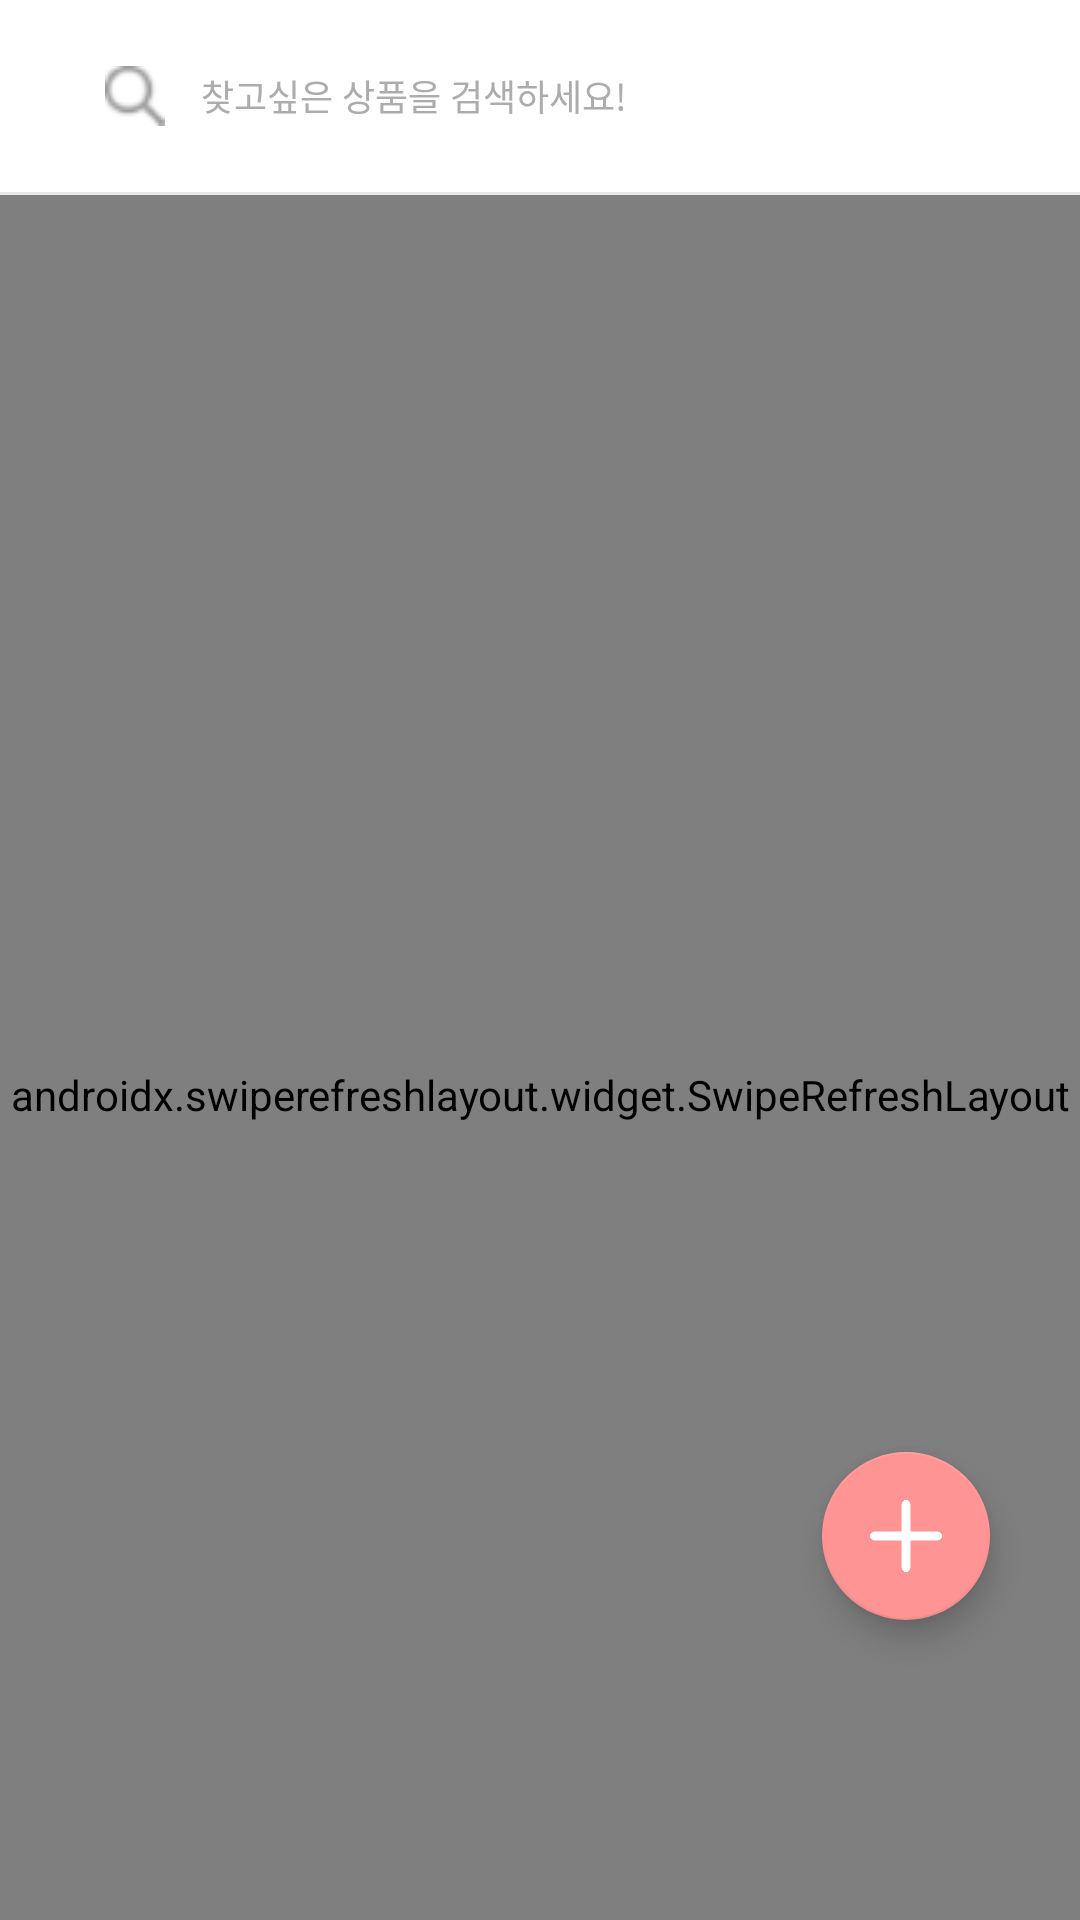

Where icons sit on this 1080×1920 app screen, as (x1, y1, x2, y2):
plus: (822, 1452, 990, 1620)
